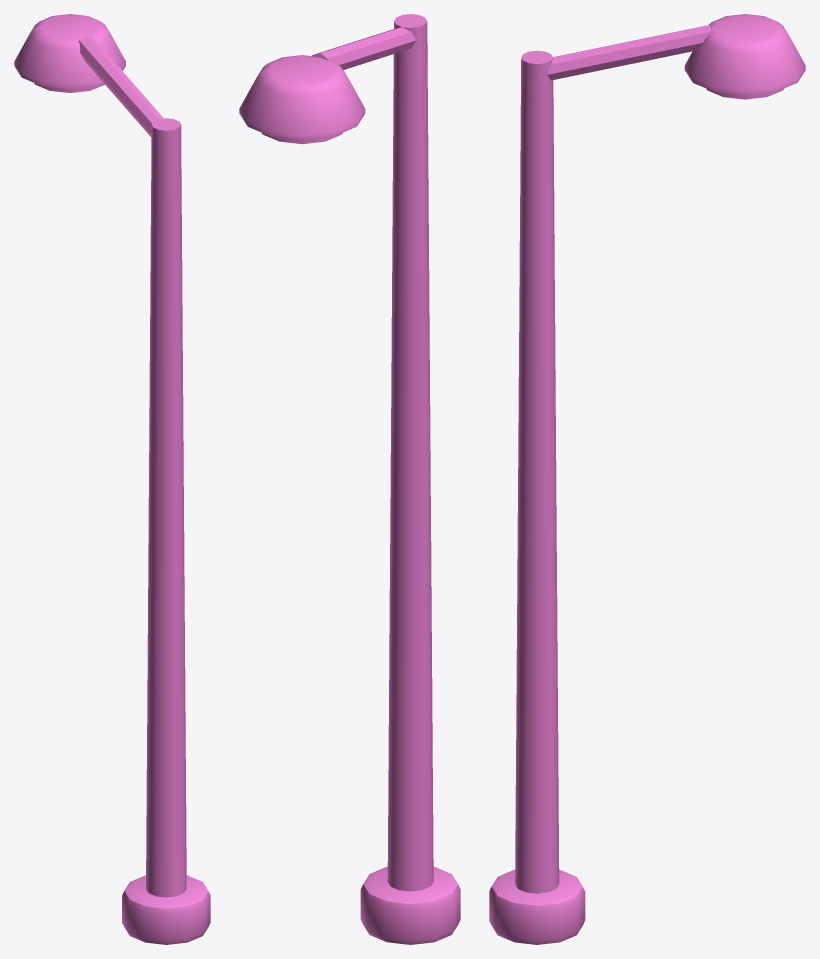
Rendered from Street_Lamp.fbx.
3 views of the same model, side by side, from view 1: azimuth 30°, elevation 25°; view 2: azimuth 150°, elevation 25°; view 3: azimuth 270°, elevation 25° (orthographic). The views are drawn at different scales.
Visible parts, largest first — view 1: Lamp; view 2: Lamp; view 3: Lamp.
Part boxes in pixels (left/top/right/bottom): Lamp: left=14, top=14, right=210, bottom=944; Lamp: left=239, top=14, right=460, bottom=944; Lamp: left=489, top=14, right=805, bottom=944.
Bounding box in the file's own units: 1.51 × 12.45 × 3.96.
1 material, 1 textured.
